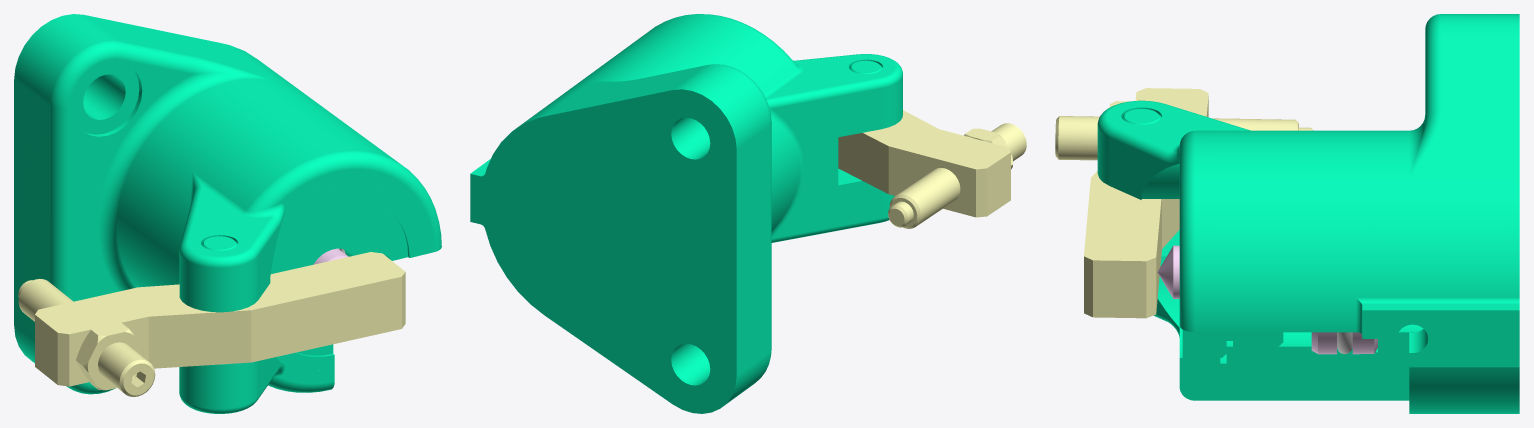
The model's file is trex.gltf.
3 renders of one model, left to right at view 1: azimuth 30°, elevation 25°; view 2: azimuth 150°, elevation 25°; view 3: azimuth 270°, elevation 25°, orthographic. The views are drawn at different scales.
Visible parts, largest first — view 1: Body_1 (×7); view 2: Body_1 (×3); view 3: Body_1 (×7).
Part boxes in pixels (x1,y1,x2,y2): Body_1 (×7): [14, 14, 441, 413]; Body_1 (×3): [470, 14, 1026, 413]; Body_1 (×7): [1055, 14, 1519, 413].
Size of the model in its own units: 0.167 by 0.134 by 0.1474.
